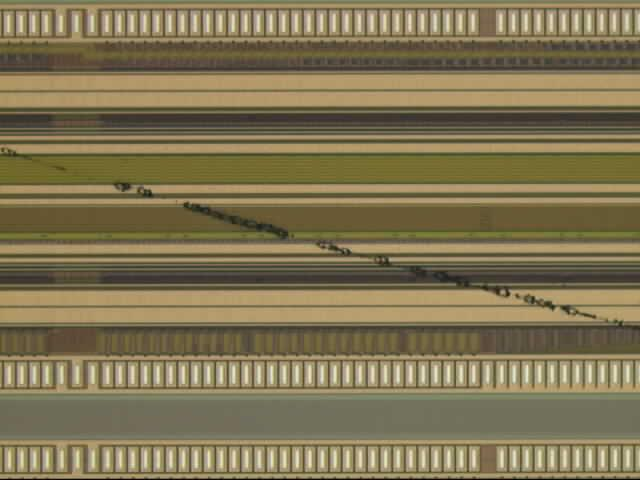SCRATCH: (1, 135, 640, 340)
